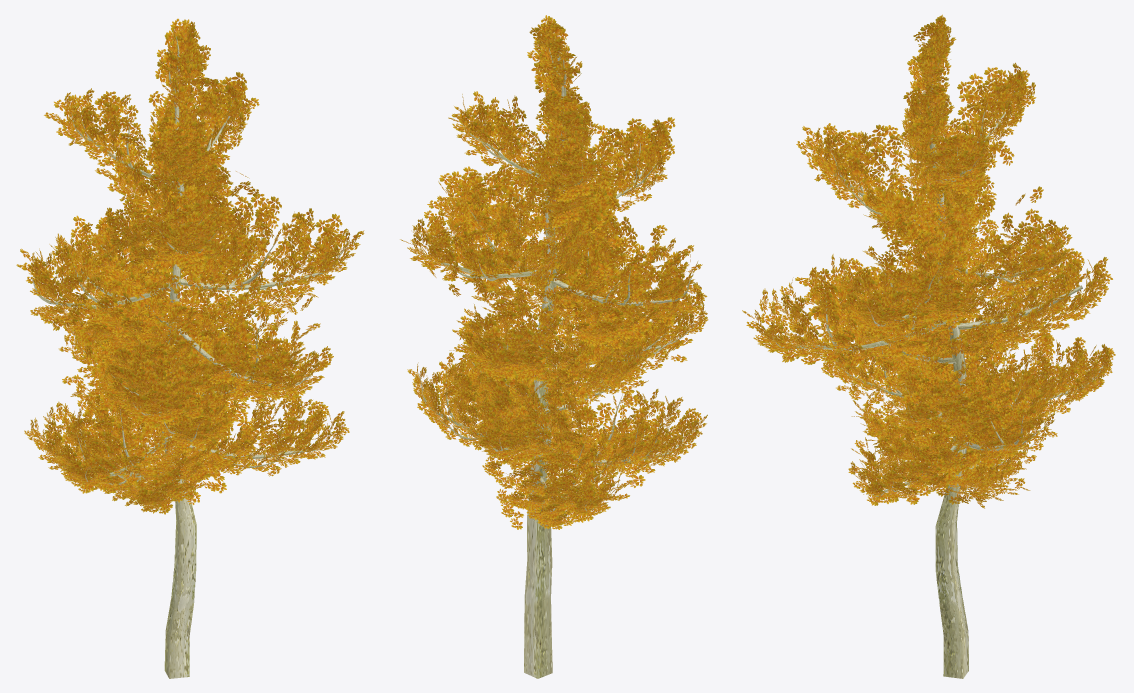
The model's file is Tree_4_2.glb.
The picture shows the model from 3 angles, left to right: view 1: azimuth 30°, elevation 25°; view 2: azimuth 150°, elevation 25°; view 3: azimuth 270°, elevation 25°; orthographic projection.
Visible parts, largest first — view 1: Tree_4_V2; view 2: Tree_4_V2; view 3: Tree_4_V2.
Part boxes in pixels (<box>): Tree_4_V2: <box>16,18,364,678</box>; Tree_4_V2: <box>400,15,708,678</box>; Tree_4_V2: <box>742,14,1115,678</box>.
Size of the model in its own units: 2.94 by 6.12 by 3.2.
1 material, 1 textured.
